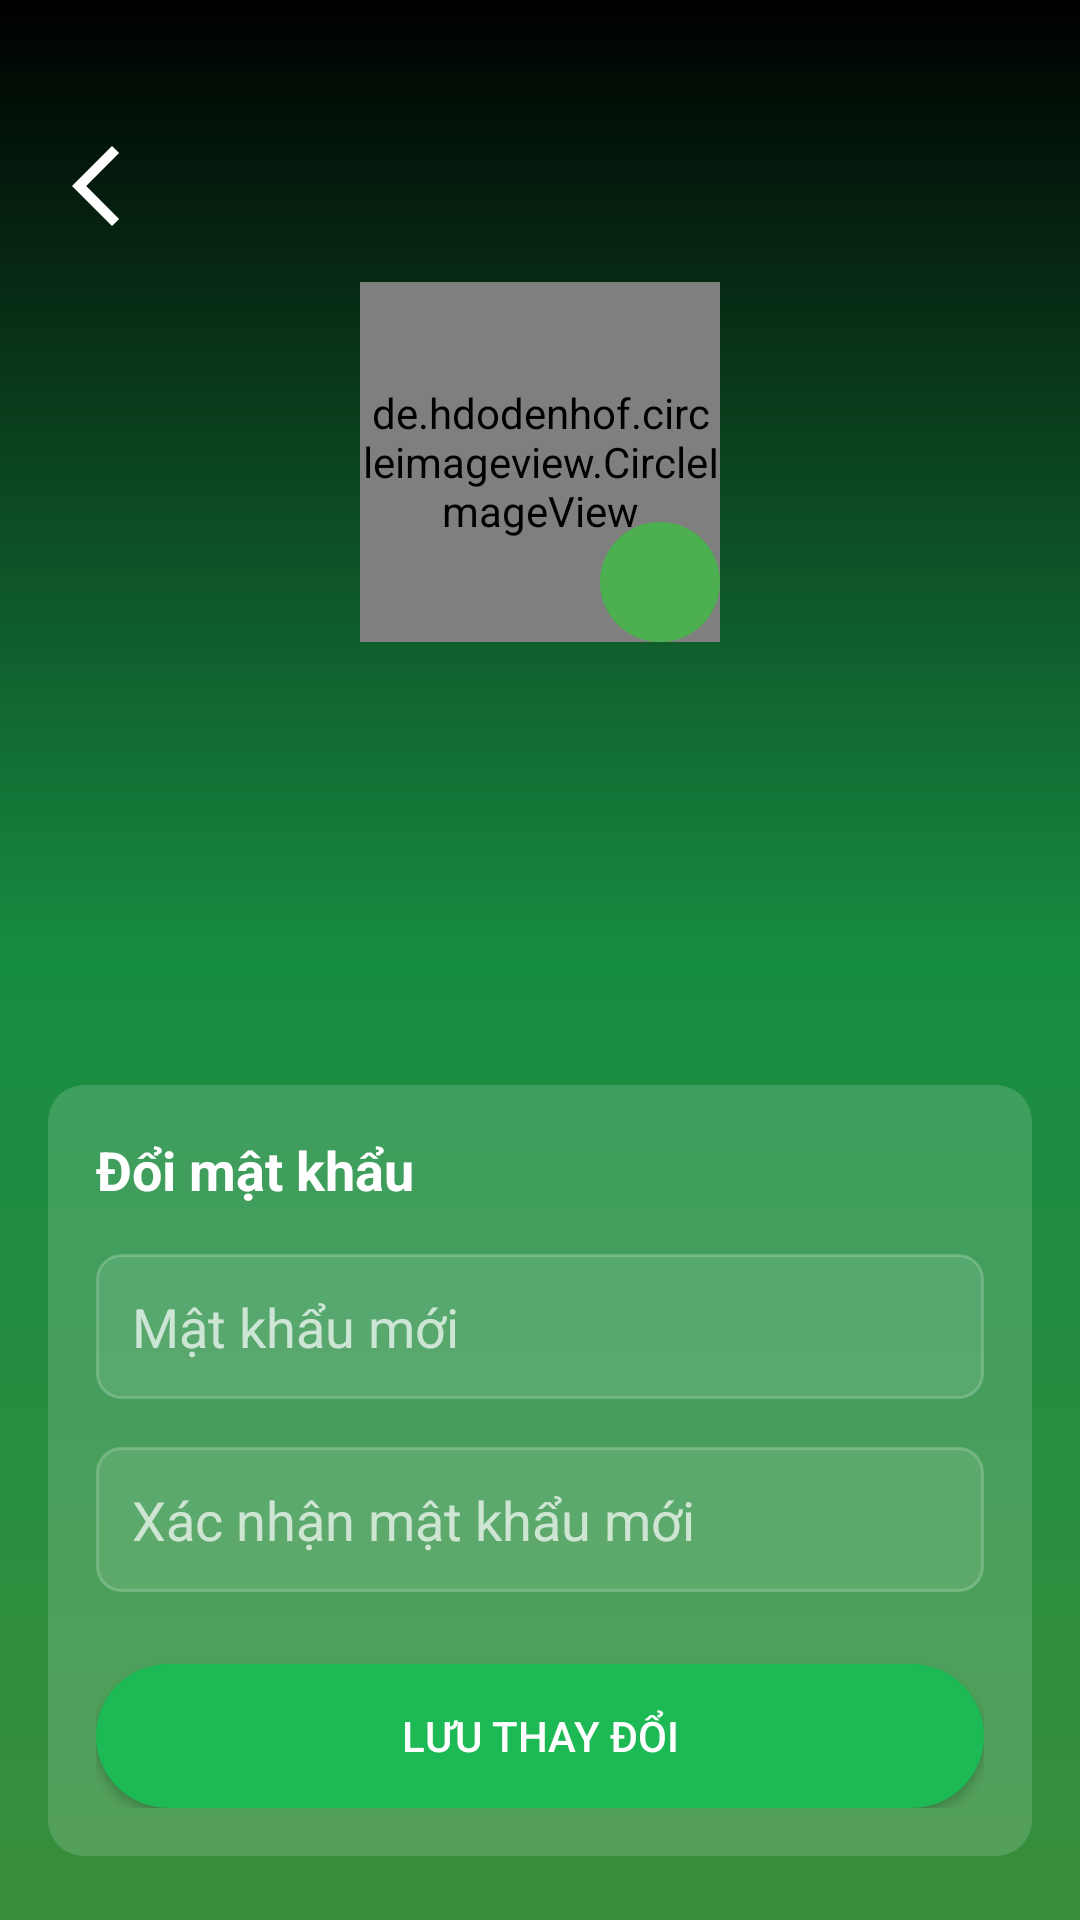

Icons on this 1080 × 1920 Android screen, each with the point to tap as [x,y]:
back: [95,186]
